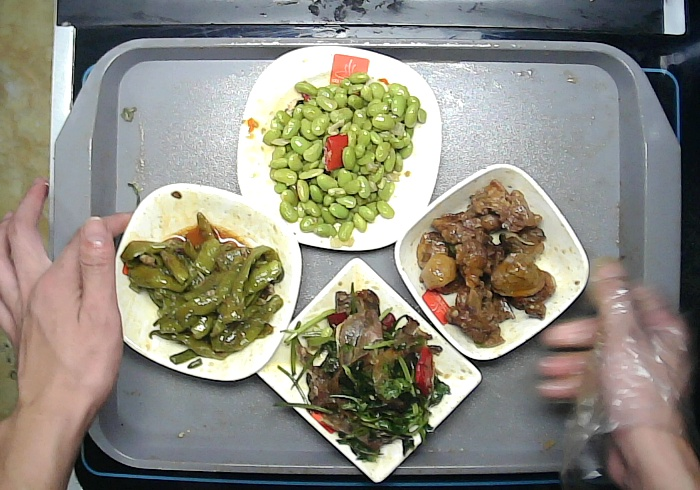SHKJ-Bai_Se_Cai_Die: (97, 182, 301, 381)
SHKJ-Bai_Se_Si_Fang_Cai_Die: (234, 41, 444, 251)
SHKJ-Bai_Se_Xiao_Fang_Die: (394, 161, 591, 362)
SHKJ-Si_Fang_Min: (256, 256, 483, 483)
